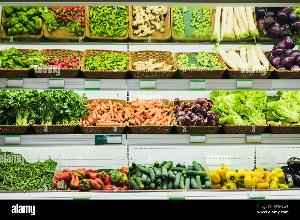bell_pepper: (51, 158, 129, 194), (206, 158, 286, 190), (0, 6, 46, 40), (88, 6, 128, 38), (83, 49, 129, 69), (0, 44, 28, 70)
carrot: (80, 99, 128, 125), (128, 97, 170, 125)
cucumber: (130, 158, 206, 190)
radish: (44, 7, 86, 36), (38, 46, 80, 72)
